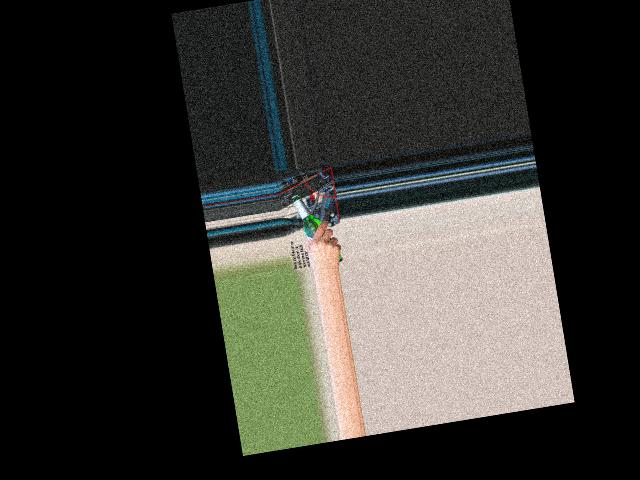beer: (291, 187, 343, 268)
